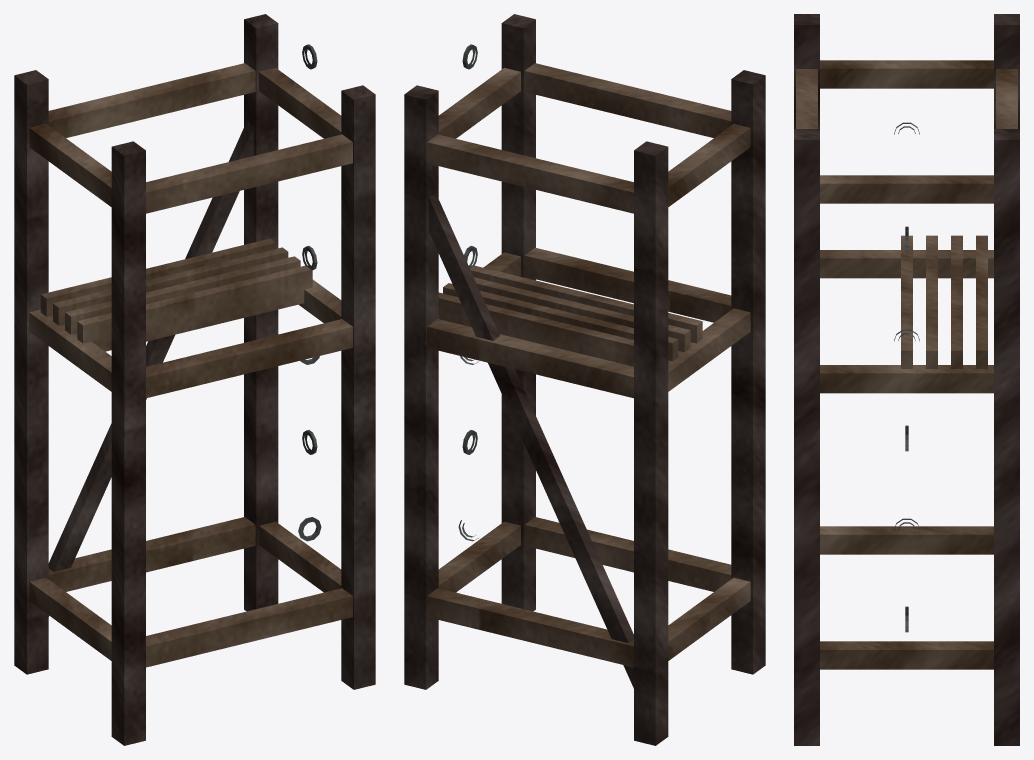
Rendered from 0448_scaffolding_23.glb.
3 renders of one model, left to right at view 1: azimuth 30°, elevation 25°; view 2: azimuth 150°, elevation 25°; view 3: azimuth 270°, elevation 25°, orthographic. The views are drawn at different scales.
Parts seen in each view (by area): view 1: wood_dark, wood, iron; view 2: wood_dark, wood, iron; view 3: wood, wood_dark, iron.
Boxes of the visible parts, bbox=[...] form: wood_dark: bbox=[14, 14, 375, 745]; wood: bbox=[29, 63, 352, 667]; iron: bbox=[298, 44, 321, 541]; wood_dark: bbox=[404, 14, 765, 745]; wood: bbox=[427, 63, 750, 667]; iron: bbox=[458, 44, 478, 541]; wood: bbox=[796, 60, 1017, 669]; wood_dark: bbox=[794, 14, 1019, 745]; iron: bbox=[894, 122, 919, 632].
Size of the model in its own units: 1.5 by 3.42 by 1.13.
Materials: 3 (3 with a texture image).
